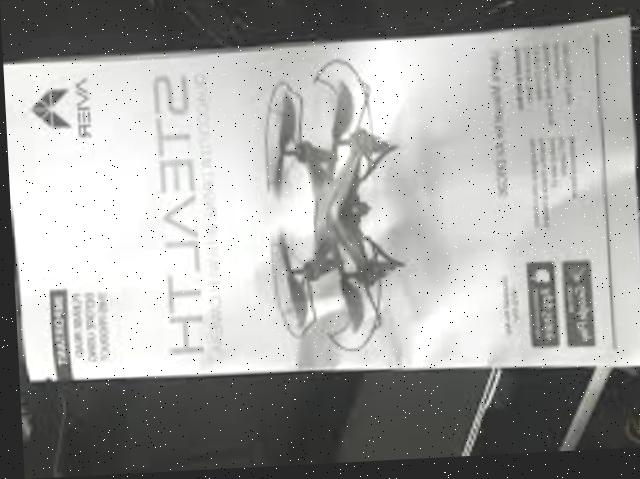drone: (248, 57, 417, 371)
